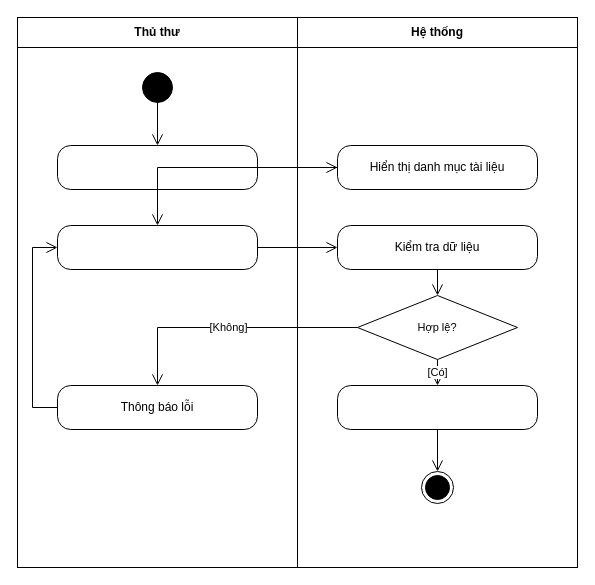
Image size: 595x585. Some labels were removed from this diagram. The shapes that lost their labels are listed below. From the top down, each one's box as (x1, y1, x2, y2) in pixels, then its label:
(56, 144, 258, 190): Chọn Cập nhật danh mục (sách in / sách điện tử)
(56, 224, 258, 270): Chọn Thêm / Sửa / Xóa và nhập thông tin
(336, 384, 538, 430): Lưu thay đổi vào CSDL
